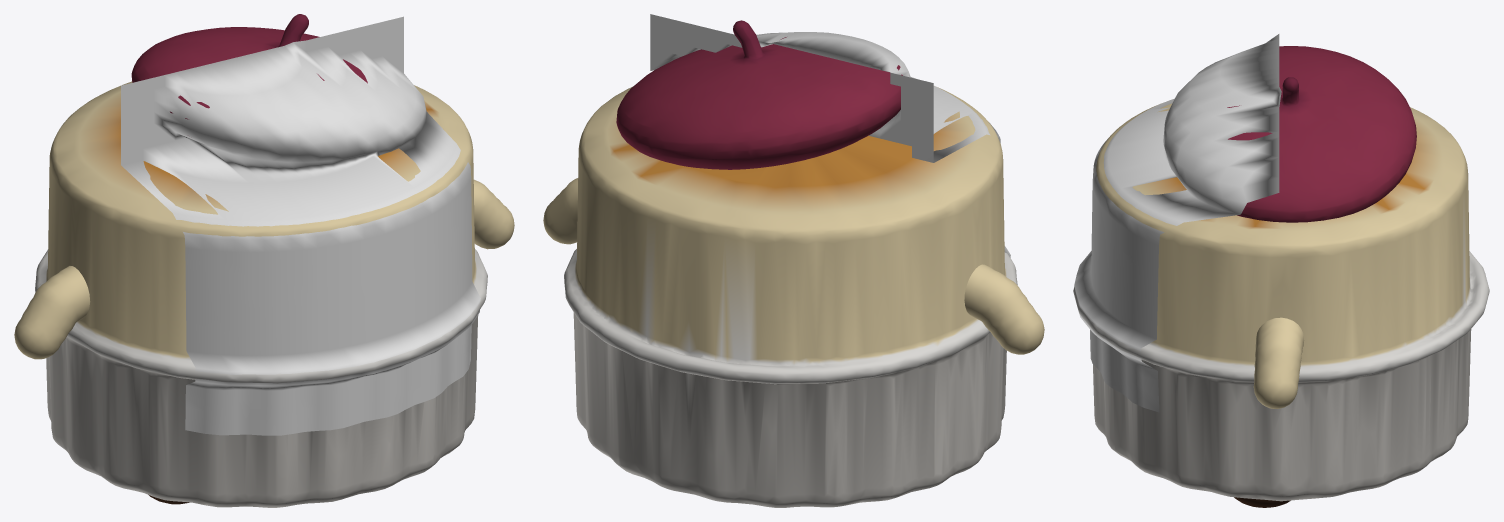
The model's file is folk2_brulee_lod1.glb.
The picture shows the model from 3 angles, left to right: view 1: azimuth 30°, elevation 25°; view 2: azimuth 150°, elevation 25°; view 3: azimuth 270°, elevation 25°; orthographic projection. The views are drawn at different scales.
Parts seen in each view (by area): view 1: brulee_face, brulee_body, brulee_arm_l, brulee_arm_r; view 2: brulee_body, brulee_face, brulee_arm_l, brulee_arm_r; view 3: brulee_body, brulee_face, brulee_arm_r.
Boxes of the visible parts, x1=… form: brulee_face: x1=121, y1=16, x2=480, y2=435; brulee_body: x1=35, y1=14, x2=487, y2=507; brulee_arm_l: x1=14, y1=266, x2=90, y2=359; brulee_arm_r: x1=473, y1=179, x2=514, y2=249; brulee_body: x1=564, y1=20, x2=1017, y2=507; brulee_face: x1=650, y1=14, x2=1010, y2=257; brulee_arm_l: x1=964, y1=264, x2=1044, y2=354; brulee_arm_r: x1=543, y1=178, x2=578, y2=244; brulee_body: x1=1073, y1=46, x2=1489, y2=501; brulee_face: x1=1074, y1=34, x2=1281, y2=412; brulee_arm_r: x1=1253, y1=317, x2=1304, y2=408.
Bounding box in the file's own units: 1.25 × 1.06 × 0.9944.
